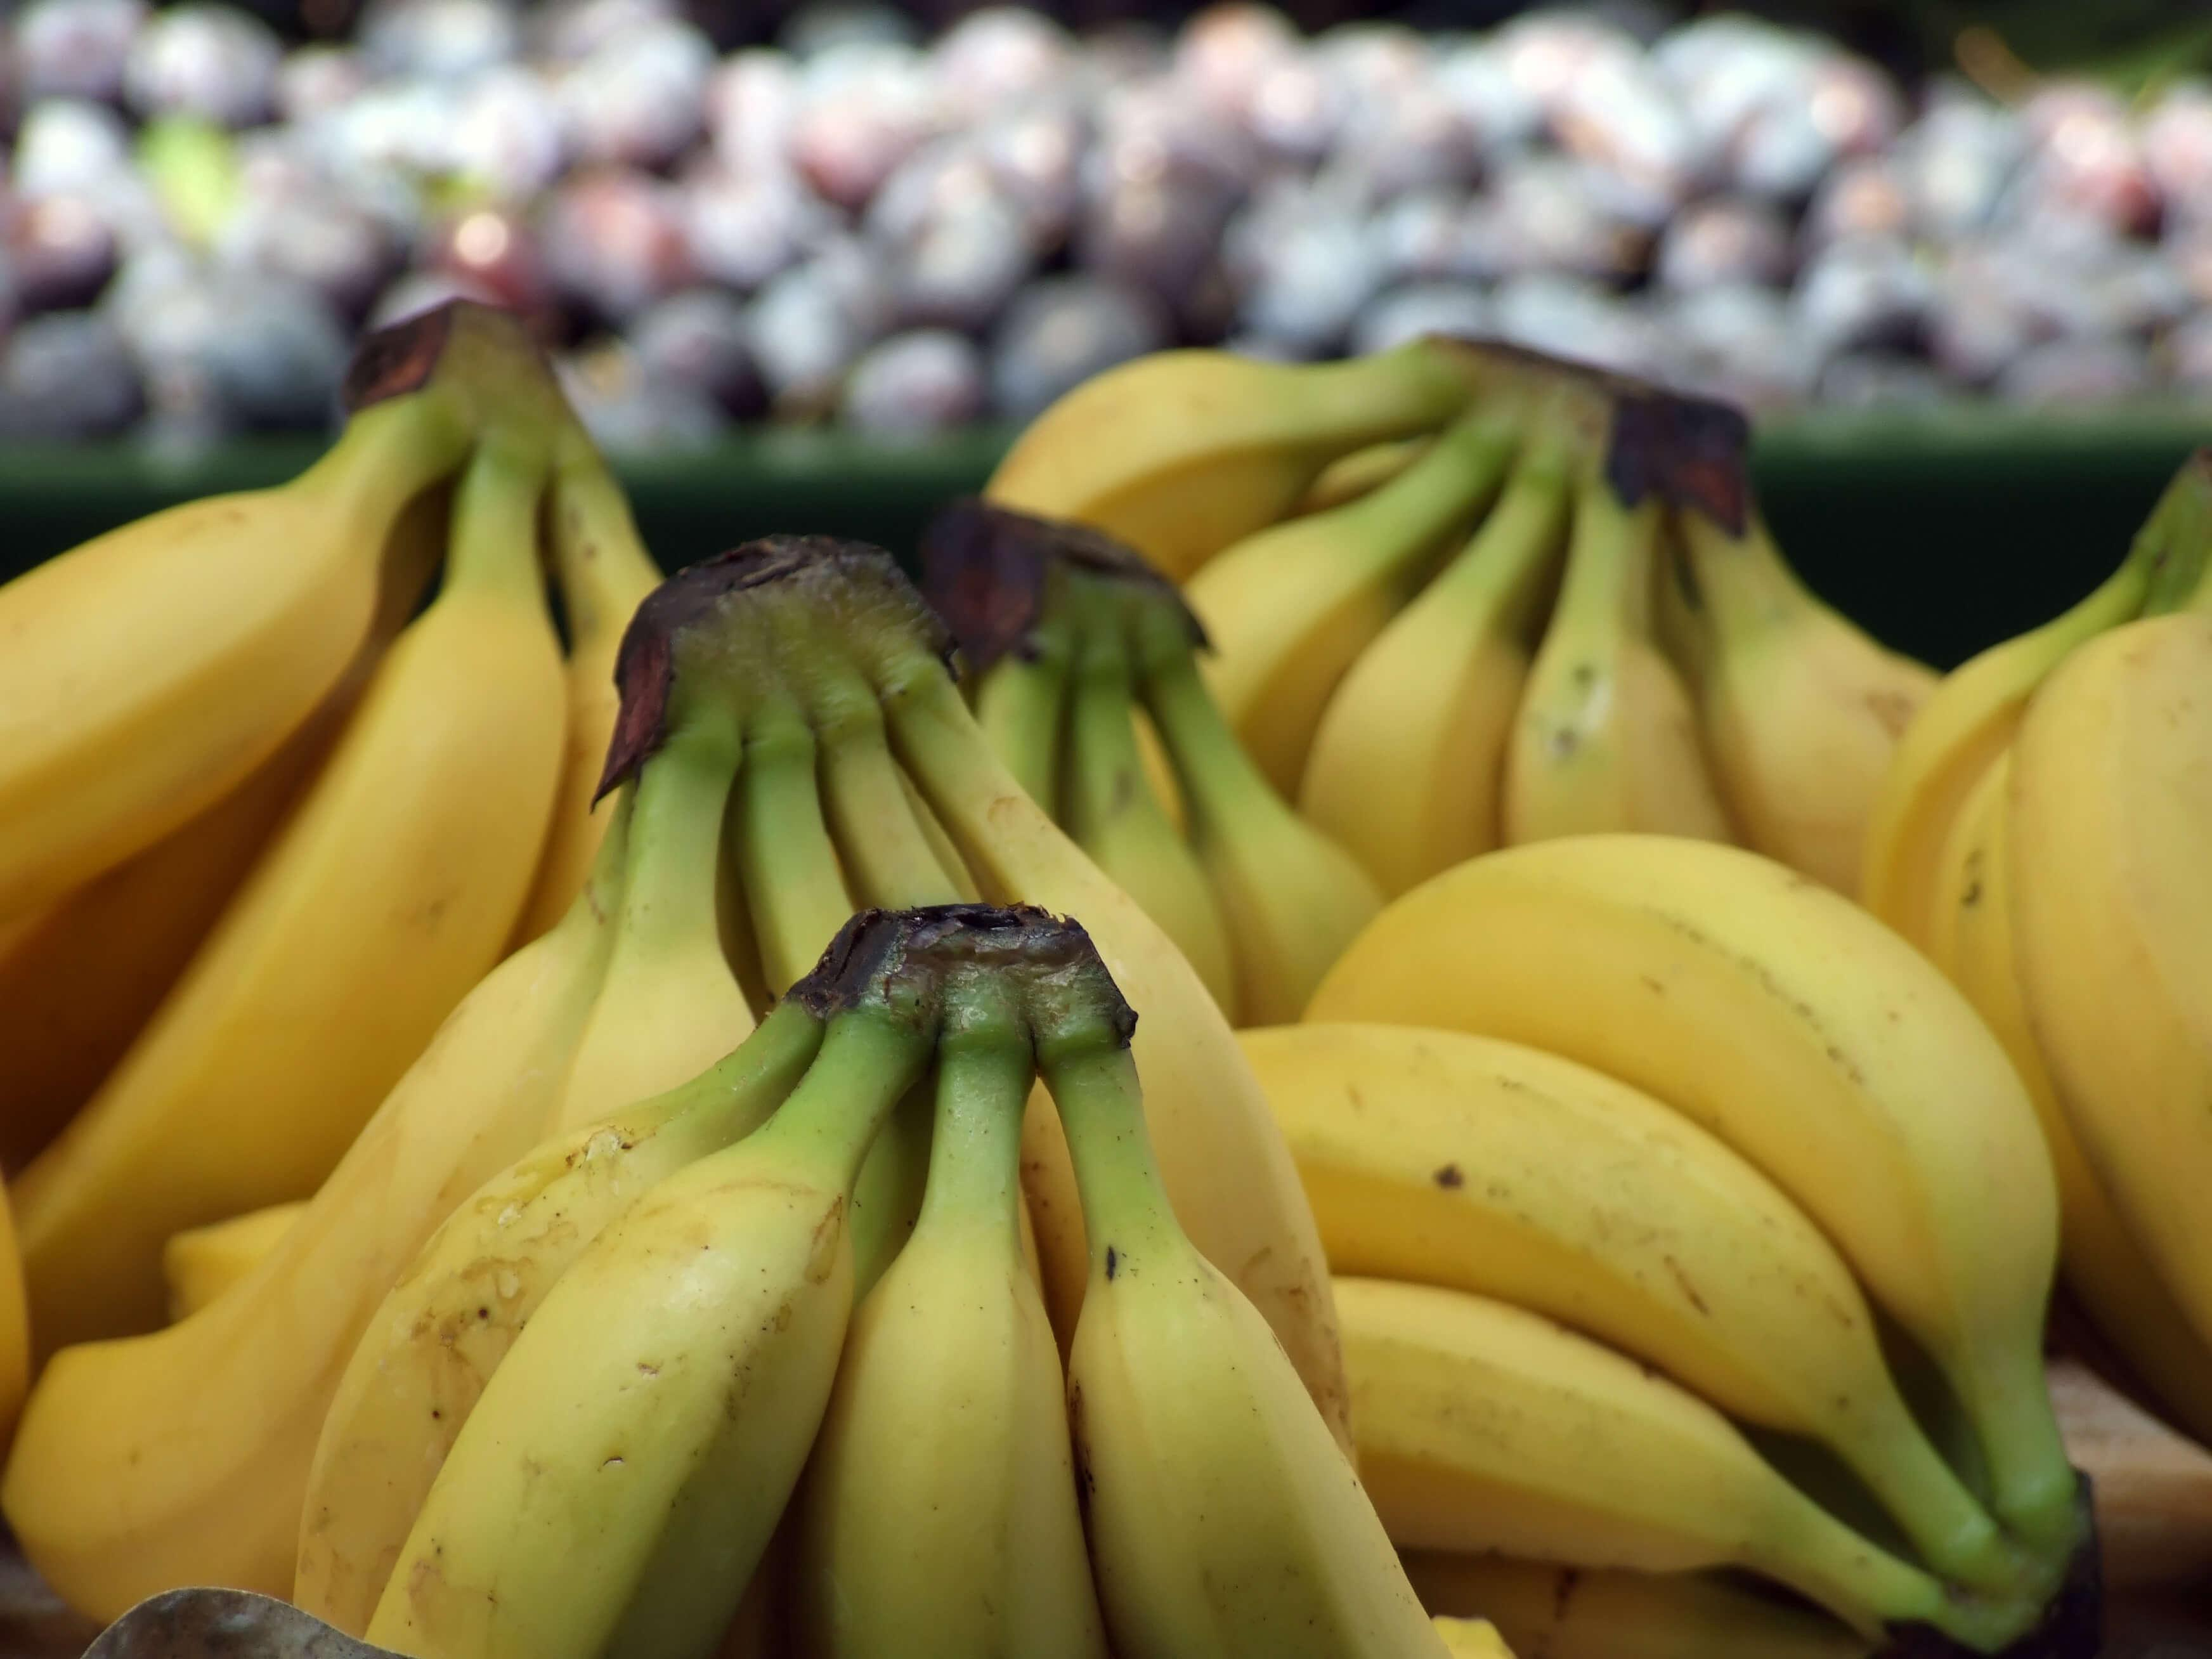banana: (287, 906, 1508, 1659), (1284, 805, 2107, 1633)
